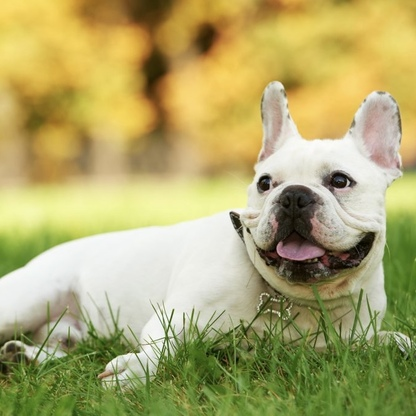bulldog: (2, 80, 416, 393)
